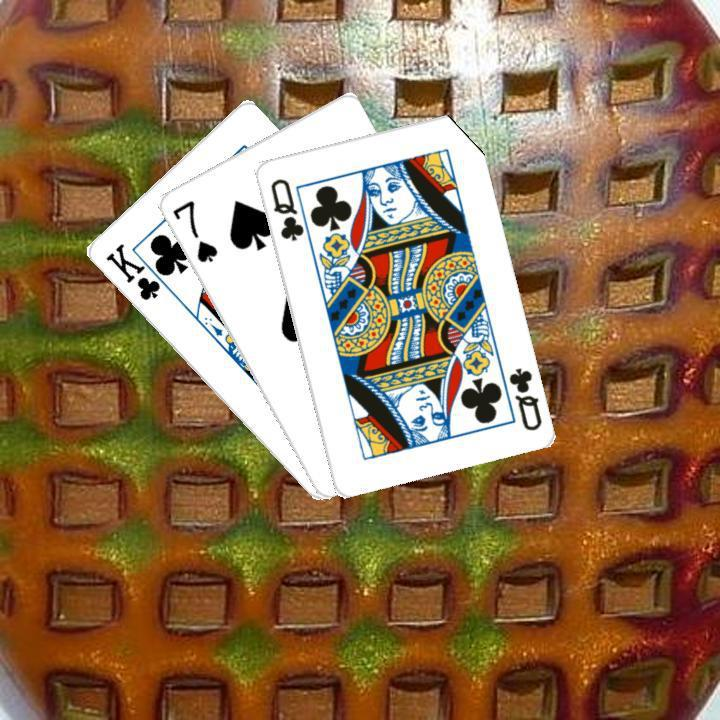7: (167, 196, 220, 265)
K: (100, 238, 175, 303)
Q: (265, 174, 305, 243), (504, 363, 543, 433)
